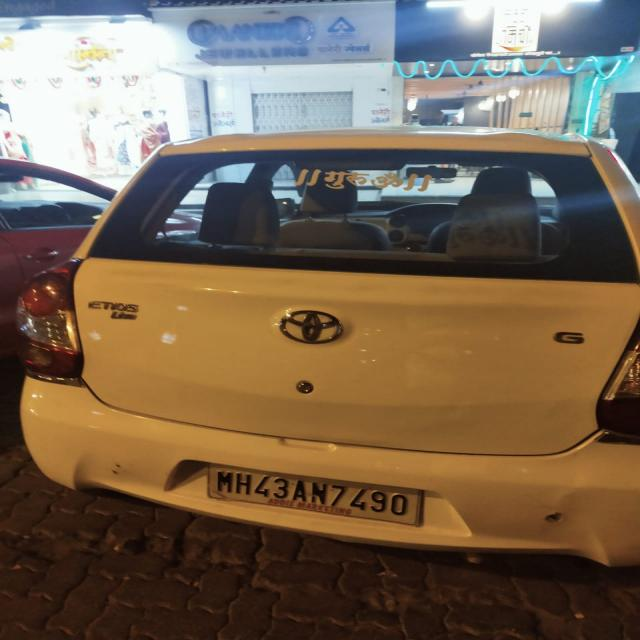Number-Plate: (207, 459, 426, 519)
